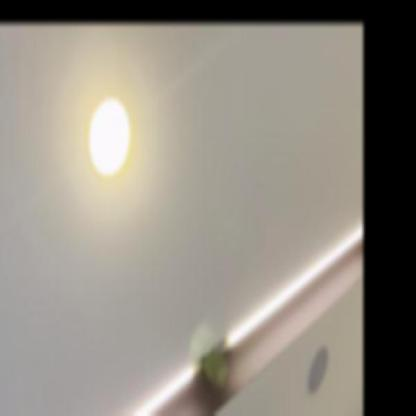light_on: (86, 88, 134, 190)
